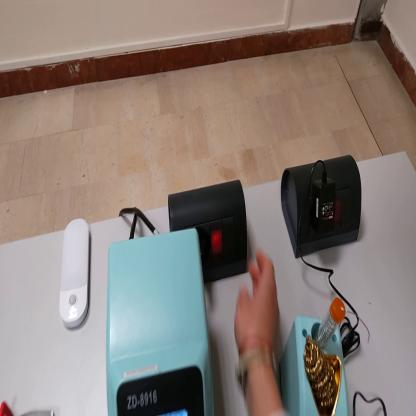hand: (233, 253, 282, 363)
socket: (167, 178, 252, 289), (278, 158, 363, 255)
welder base: (281, 294, 350, 414)
welder station: (103, 225, 218, 412)
